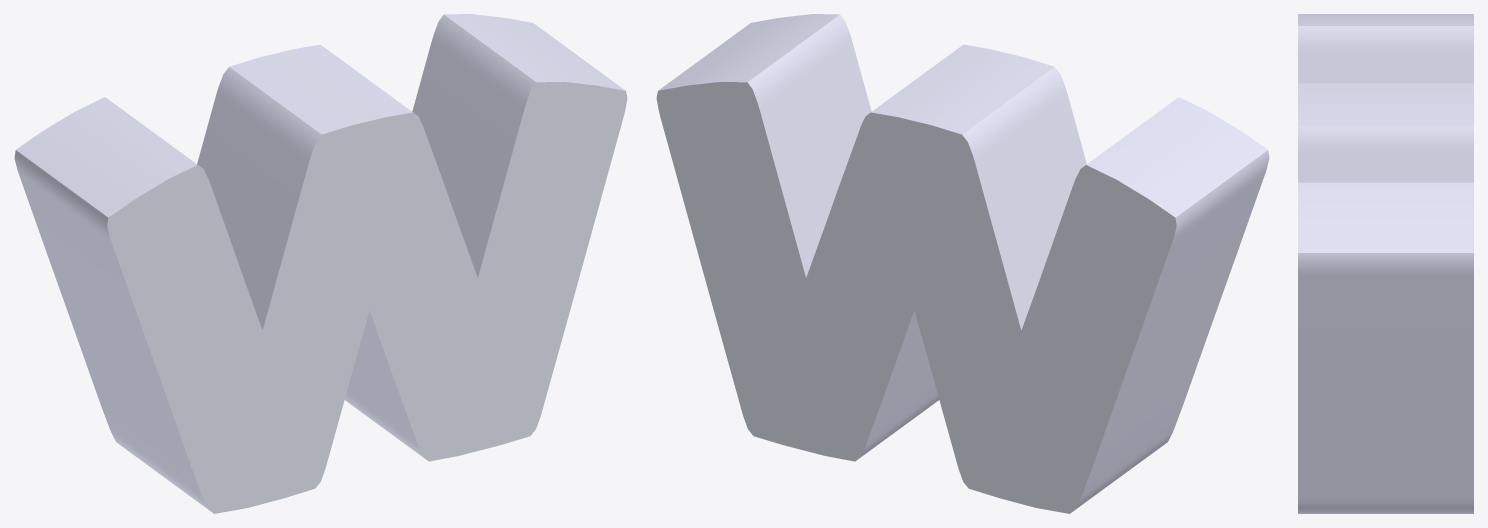
File: W_Zyzol_Grey.glb
3 views of the same model, side by side, from view 1: azimuth 30°, elevation 25°; view 2: azimuth 150°, elevation 25°; view 3: azimuth 270°, elevation 25° (orthographic). The views are drawn at different scales.
Visible parts, largest first — view 1: w_Zyzol_Grey; view 2: w_Zyzol_Grey; view 3: w_Zyzol_Grey.
Part boxes in pixels (x1,y1,x2,y2): w_Zyzol_Grey: (14,14,627,513); w_Zyzol_Grey: (656,14,1269,513); w_Zyzol_Grey: (1298,14,1473,513).
Size of what is drawn, in the model's own units: 0.1458 by 0.0956 by 0.045.
Materials: 2 (2 with a texture image).
